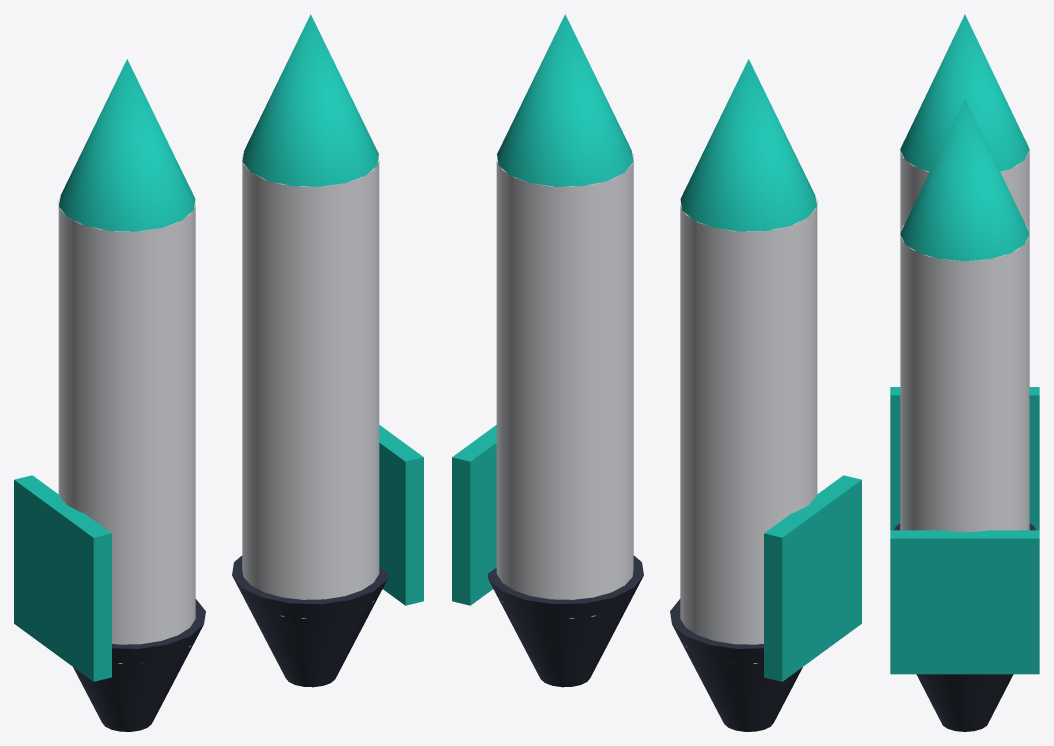
Rendered from pack_rockets.glb.
The picture shows the model from 3 angles, left to right: view 1: azimuth 30°, elevation 25°; view 2: azimuth 150°, elevation 25°; view 3: azimuth 270°, elevation 25°; orthographic projection. The views are drawn at different scales.
Visible parts, largest first — view 1: Rocket1, Rocket-1, Fin-1, Nose1, Nose-1, Nozzle1, Fin1, Nozzle-1; view 2: Rocket1, Rocket-1, Fin-1, Nose1, Nose-1, Nozzle1, Fin1, Nozzle-1; view 3: Rocket1, Fin1, Nose1, Nose-1, Nozzle1, Fin-1, Rocket-1.
Part boxes in pixels (box(x1,y1,x2,y2)): Rocket1: box(242, 153, 379, 618); Rocket-1: box(58, 198, 195, 663); Fin-1: box(14, 475, 111, 681); Nose1: box(242, 14, 378, 186); Nose-1: box(59, 59, 195, 231); Nozzle1: box(232, 555, 388, 687); Fin1: box(379, 425, 423, 605); Nozzle-1: box(73, 599, 205, 731); Rocket1: box(496, 153, 633, 618); Rocket-1: box(680, 198, 817, 663); Fin-1: box(764, 475, 861, 681); Nose1: box(497, 14, 633, 186); Nose-1: box(680, 59, 816, 231); Nozzle1: box(487, 555, 643, 687); Fin1: box(452, 425, 496, 605); Nozzle-1: box(670, 599, 802, 731); Rocket1: box(900, 224, 1029, 532); Fin1: box(890, 530, 1039, 674); Nose1: box(900, 99, 1029, 261); Nose-1: box(900, 14, 1029, 171); Nozzle1: box(916, 674, 1013, 731); Fin-1: box(890, 387, 1039, 530); Rocket-1: box(900, 140, 1029, 232).
Size of the model in its own units: 0.72 by 1.38 by 0.3.
